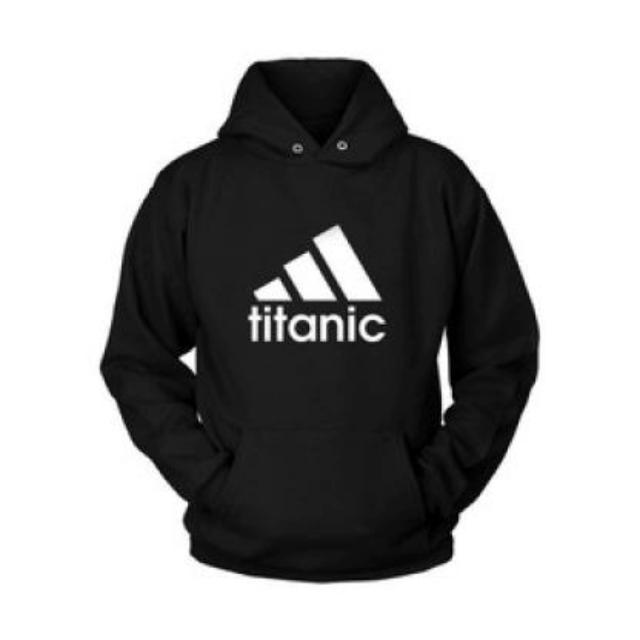ADIDAS_fake: (240, 238, 410, 358)
